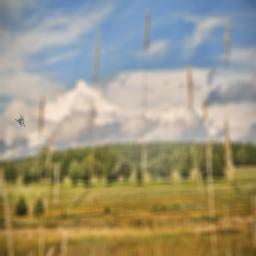Sparrow: (15, 114, 25, 127)
